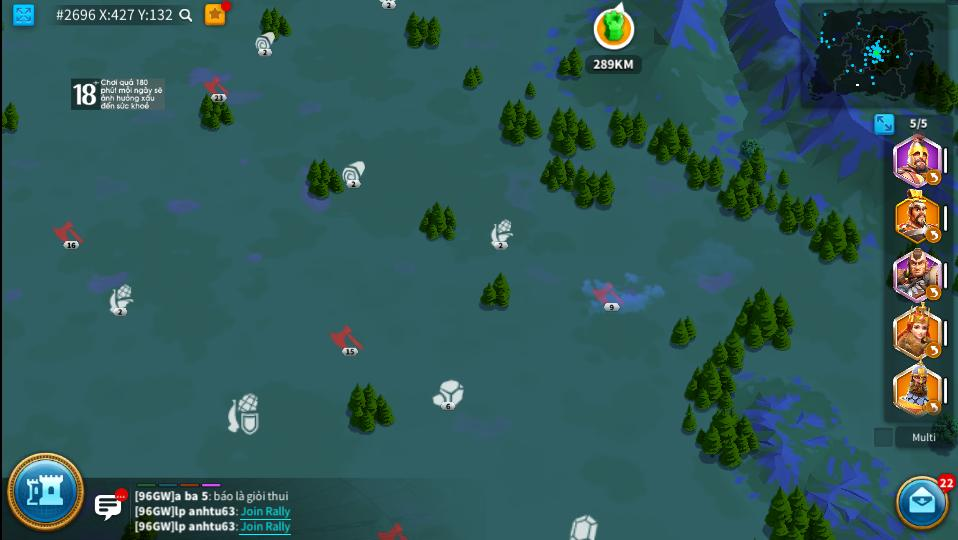gem-z-out: (570, 515, 598, 540)
march_returning: (925, 228, 942, 242), (926, 170, 940, 185), (927, 400, 941, 415), (926, 285, 940, 299), (928, 343, 940, 357)
